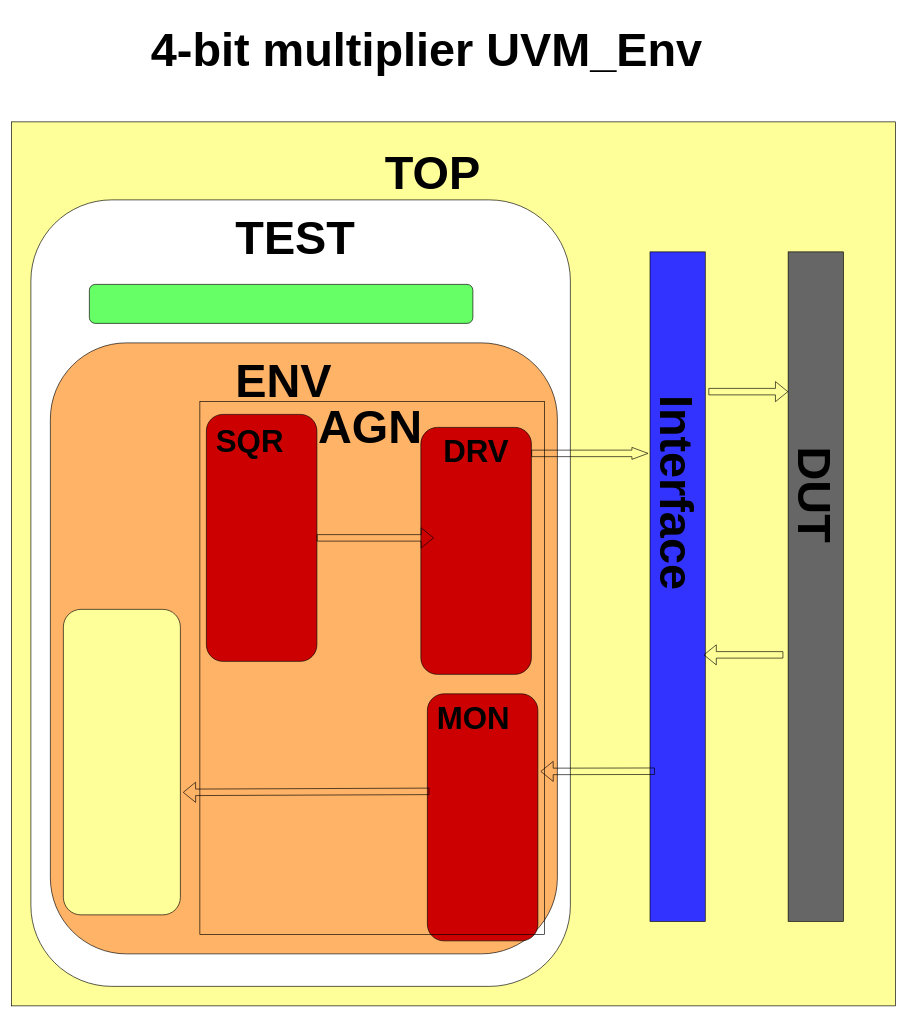
The diagram is 907 pixels wide and 1017 high, and some of its shapes have lost their labels. Each missing label, with the centre of its shape:
"SCO" belongs at (x=121, y=762).
"sequence" belongs at (x=281, y=303).
